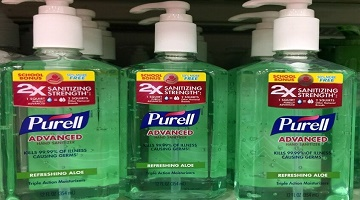Sanitizer: (231, 1, 359, 200), (1, 1, 121, 200), (117, 1, 237, 200)
